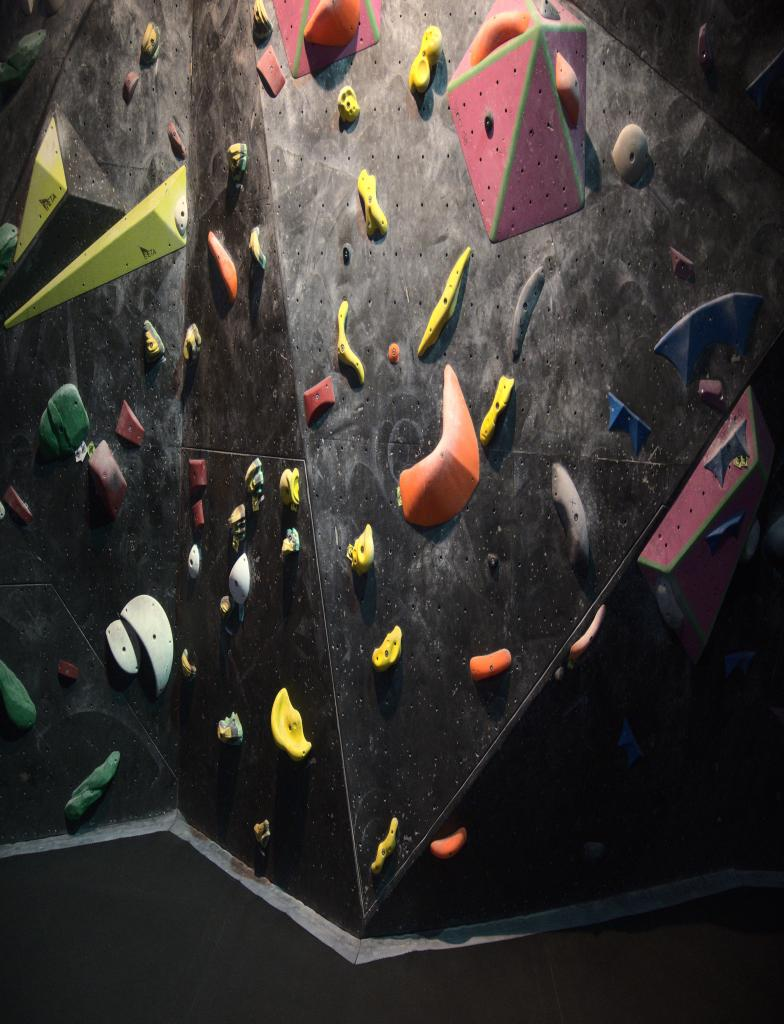crimp: (510, 265, 545, 360), (705, 419, 748, 486), (608, 392, 650, 453)
downhold: (613, 124, 648, 183)
jib: (388, 343, 399, 363), (487, 553, 498, 572), (484, 110, 493, 133), (343, 244, 351, 265)
jug: (38, 383, 89, 460), (271, 688, 311, 759), (409, 26, 442, 93), (570, 606, 605, 664), (350, 524, 374, 575), (430, 827, 466, 859), (229, 553, 250, 605), (144, 320, 165, 366), (246, 458, 263, 511), (140, 22, 160, 65), (228, 504, 246, 551), (253, 0, 272, 43), (217, 713, 243, 744), (279, 468, 299, 508), (338, 87, 360, 123), (227, 143, 247, 181), (249, 225, 266, 269), (184, 323, 201, 363), (181, 649, 198, 679), (188, 543, 200, 578)
ledge: (400, 365, 479, 527), (654, 293, 762, 385), (471, 10, 530, 64), (208, 231, 237, 302), (556, 52, 580, 126)
pinch: (552, 463, 590, 576), (88, 441, 127, 519), (358, 169, 387, 238), (304, 376, 335, 424), (257, 44, 285, 96), (470, 649, 511, 681), (116, 400, 144, 446), (190, 459, 206, 495), (192, 500, 204, 533)
sidepull: (14, 116, 67, 263), (418, 247, 471, 357), (338, 300, 364, 383)
tape: (75, 441, 87, 462), (733, 455, 747, 468), (87, 442, 95, 456)
undercling: (121, 595, 174, 695), (106, 620, 139, 675)
volume: (638, 387, 774, 660), (447, 0, 587, 241), (5, 167, 187, 327), (0, 107, 125, 320)
